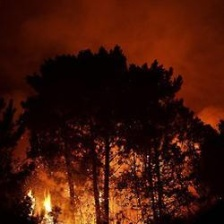fire: (4, 136, 194, 224)
